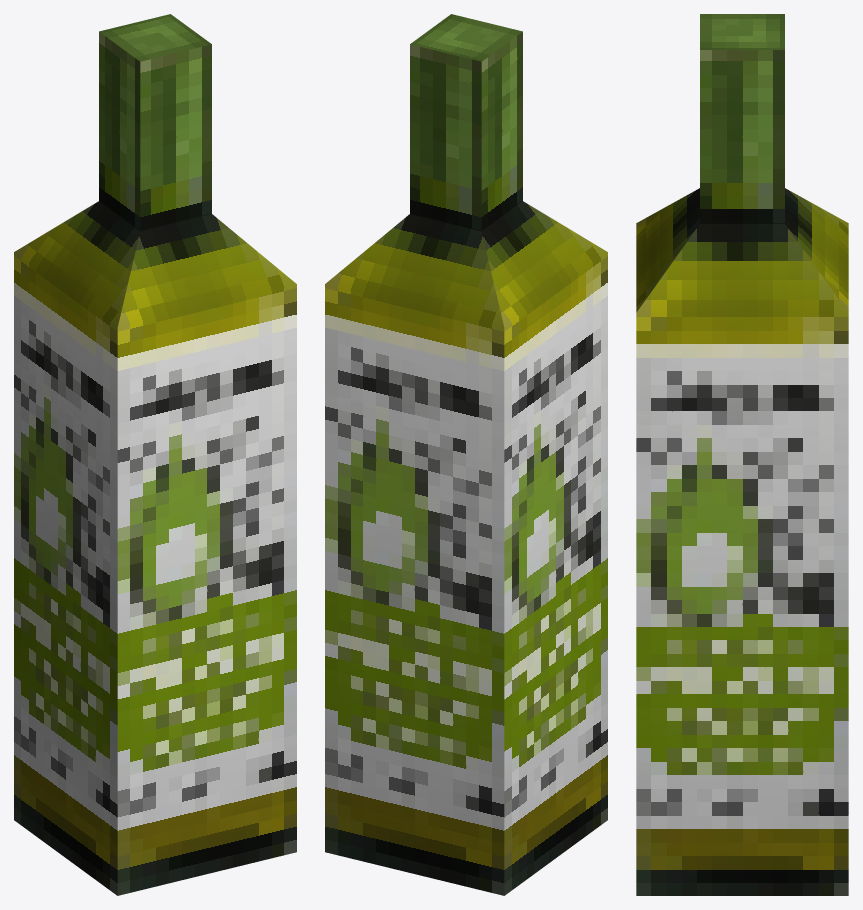
The model's file is Bottle007.glb.
3 renders of one model, left to right at view 1: azimuth 30°, elevation 25°; view 2: azimuth 150°, elevation 25°; view 3: azimuth 270°, elevation 25°, orthographic. The views are drawn at different scales.
Visible parts, largest first — view 1: bottle.007; view 2: bottle.007; view 3: bottle.007.
Boxes of the visible parts, x1,y1,x2,y2 form: bottle.007: (14,14,296,895); bottle.007: (325,14,607,895); bottle.007: (636,14,848,895).
Size of the model in its own units: 0.04 by 0.1701 by 0.04.
Materials: 1 (1 with a texture image).
